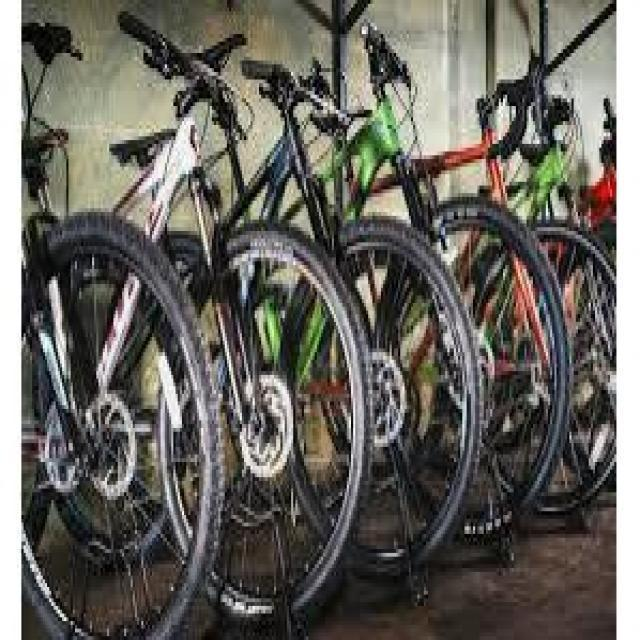bicycle: (27, 20, 376, 638), (241, 35, 479, 569), (343, 24, 579, 539), (494, 47, 616, 509), (530, 217, 618, 513)
